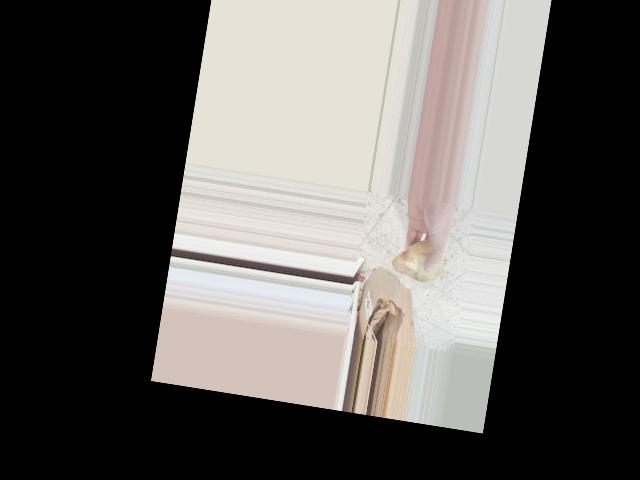onion: (391, 232, 451, 290)
